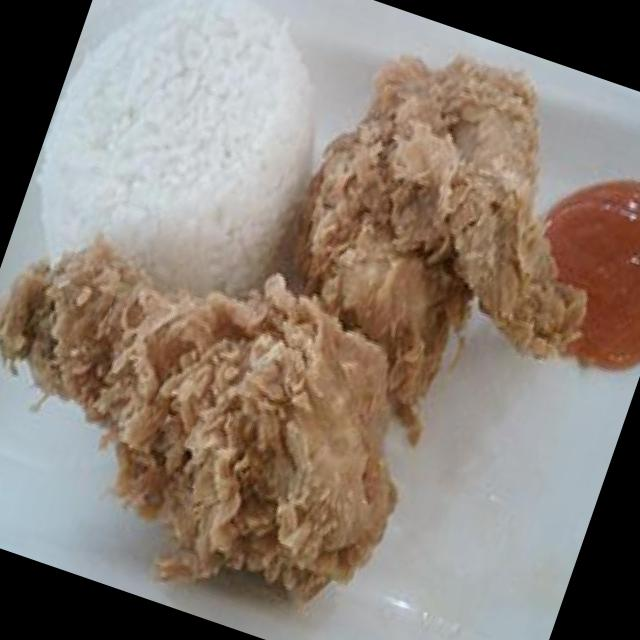Fried Chicken: (0, 53, 640, 604)
